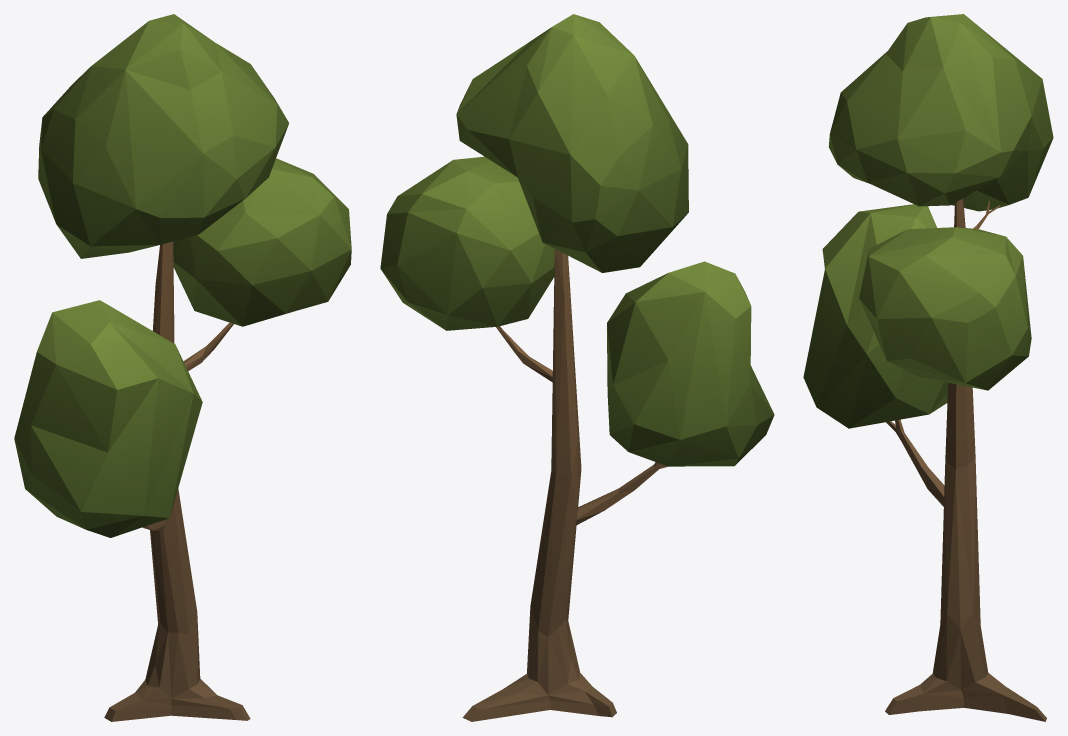
The model's file is Summer_Tree_12.glb.
3 views of the same model, side by side, from view 1: azimuth 30°, elevation 25°; view 2: azimuth 150°, elevation 25°; view 3: azimuth 270°, elevation 25° (orthographic). The views are drawn at different scales.
Visible parts, largest first — view 1: Summer_Tree_12_LOD0; view 2: Summer_Tree_12_LOD0; view 3: Summer_Tree_12_LOD0.
Part boxes in pixels (box(x1,y1,x2,y2)): Summer_Tree_12_LOD0: box(14, 14, 351, 721); Summer_Tree_12_LOD0: box(380, 14, 774, 721); Summer_Tree_12_LOD0: box(803, 14, 1053, 721).
Size of what is drawn, in the model's own units: 4.57 by 8.84 by 2.95.
Materials: 1 (1 with a texture image).
